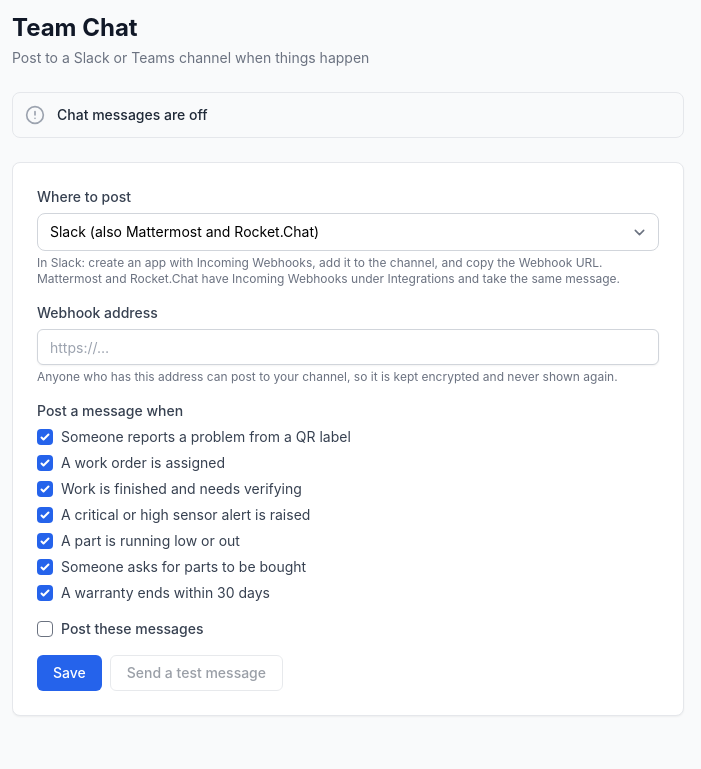
it: ChatSettingsPage › sends a test message through the address typed, and says it worked
The width and height of the screenshot is (701, 769).
In the password field labelled "Webhook address": [348, 347] box [37,329,659,365], type "https://hooks.slack.com/services/T/B/X"
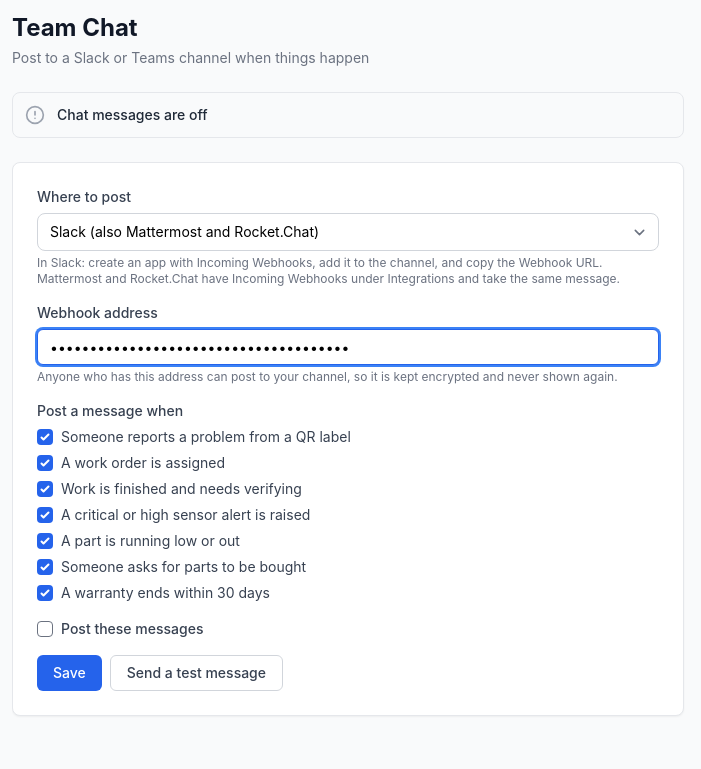
Click the button "Send a test message": [196, 673] box [110,655,283,691]
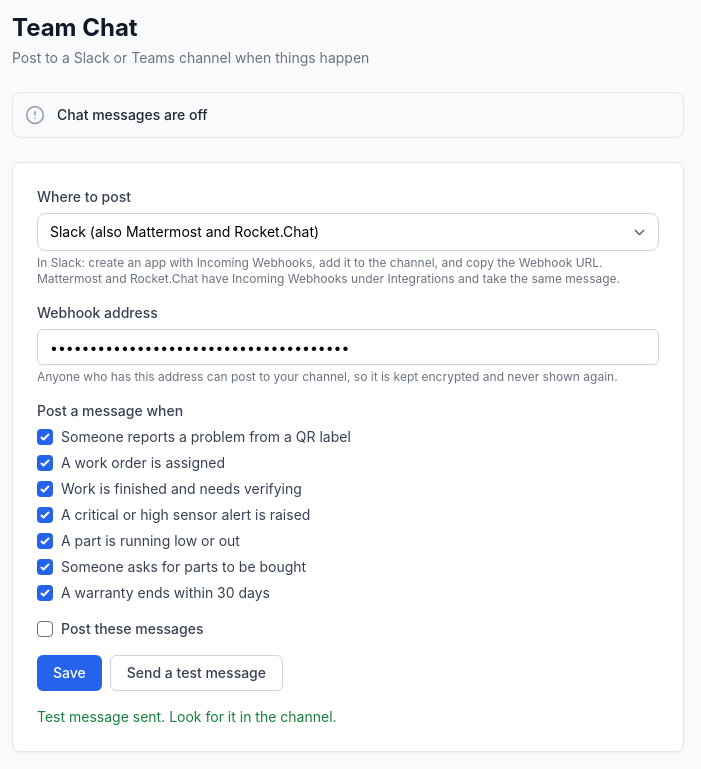
Expected: the text "Test message sent. Look for it in the channel." is shown, [37,708,337,725]
